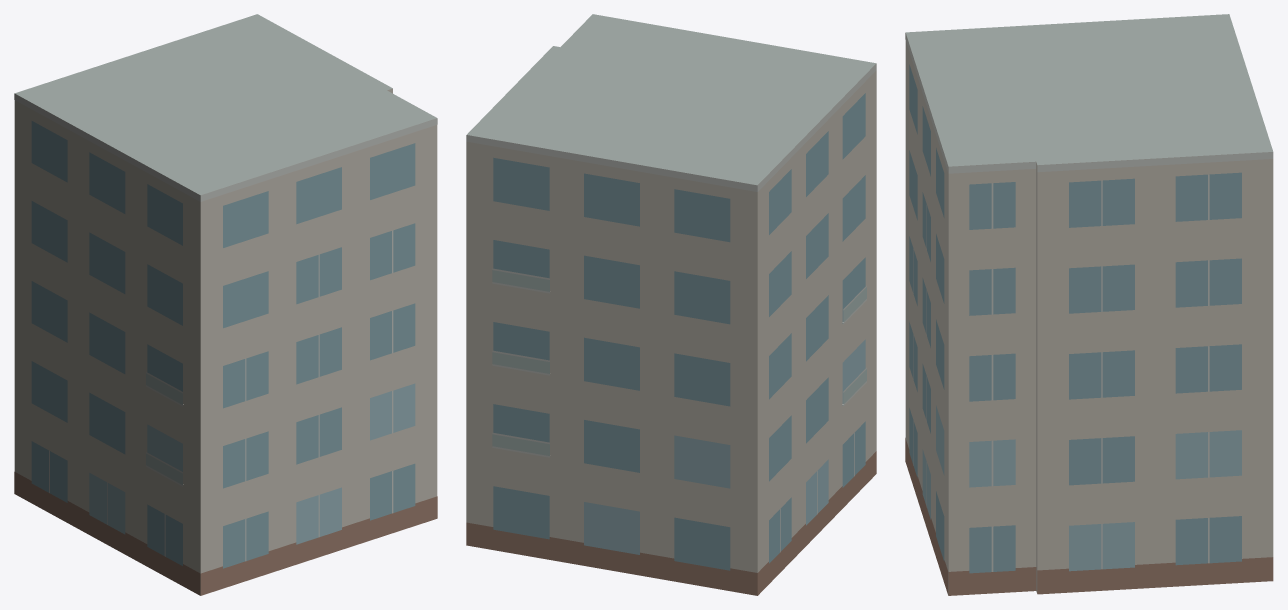
File: survey-upis-32711385.glb
3 renders of one model, left to right at view 1: azimuth 30°, elevation 25°; view 2: azimuth 150°, elevation 25°; view 3: azimuth 270°, elevation 25°, orthographic. The views are drawn at different scales.
Parts seen in each view (by area): view 1: survey-upis-32711385.tmp; view 2: survey-upis-32711385.tmp; view 3: survey-upis-32711385.tmp.
Part boxes in pixels (left/top/right/bottom): survey-upis-32711385.tmp: left=14, top=14, right=437, bottom=595; survey-upis-32711385.tmp: left=466, top=14, right=876, bottom=595; survey-upis-32711385.tmp: left=905, top=14, right=1273, bottom=595.
Bounding box in the file's own units: 11.26 × 14.75 × 11.47.
